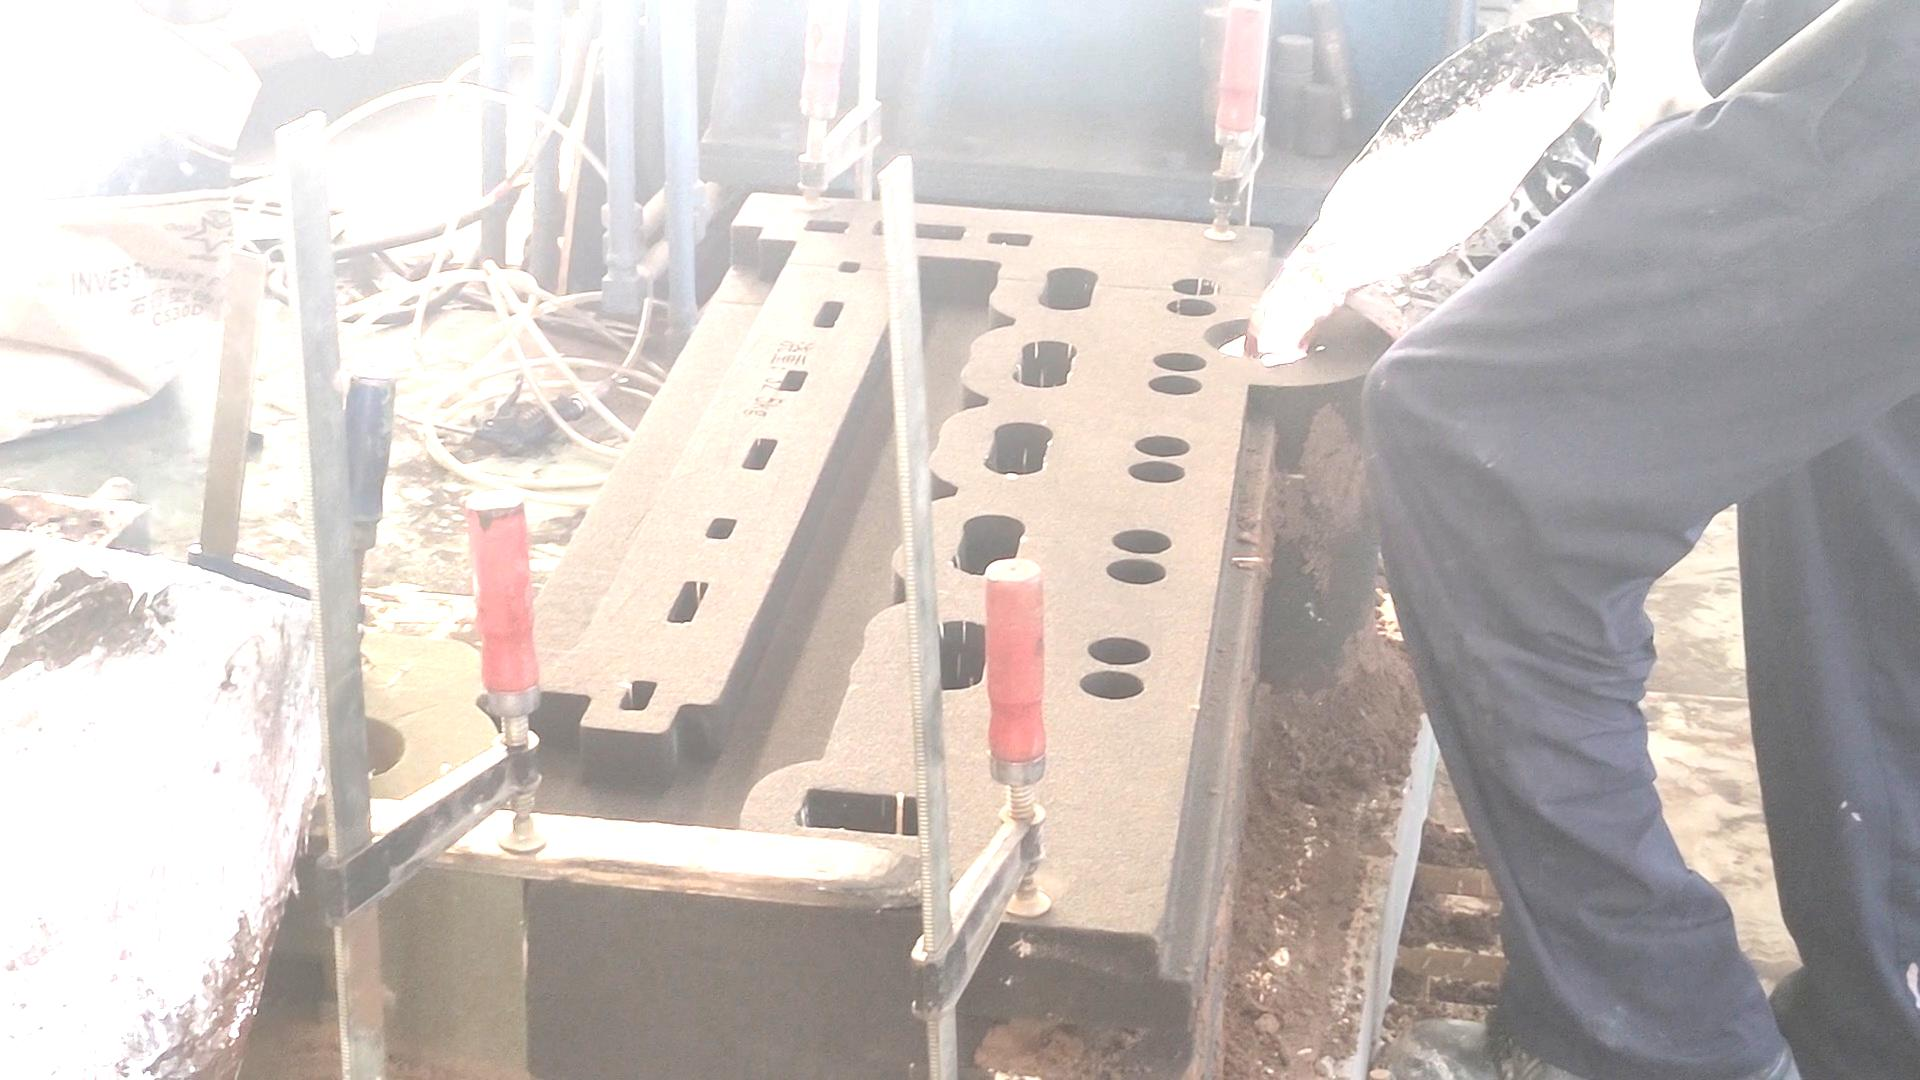pouring hole: (306, 709, 405, 775), (1203, 316, 1313, 360)
